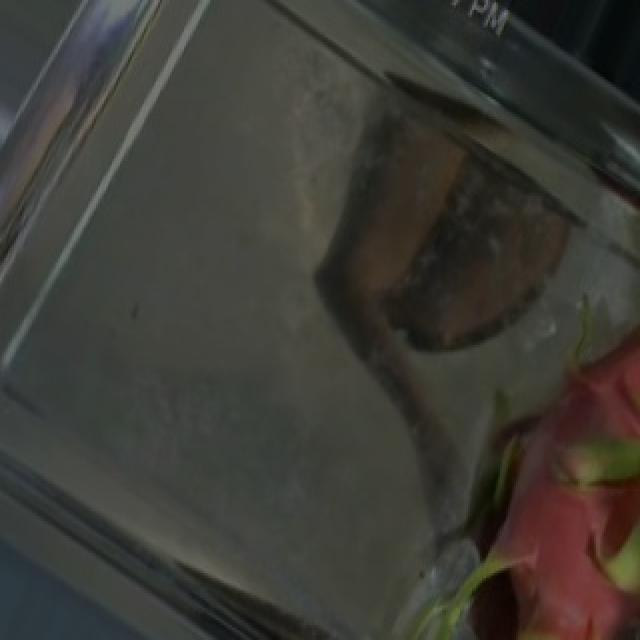fruit: (336, 253, 640, 640)
